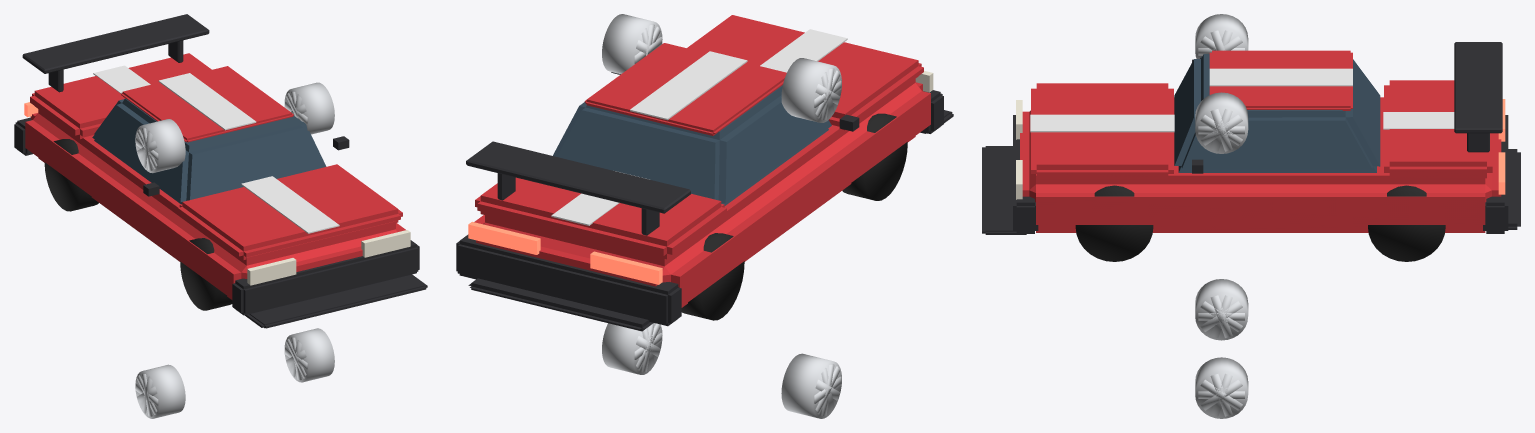
File: Car.fbx
3 views of the same model, side by side, from view 1: azimuth 30°, elevation 25°; view 2: azimuth 150°, elevation 25°; view 3: azimuth 270°, elevation 25° (orthographic). The views are drawn at different scales.
Parts seen in each view (by area): view 1: Body, Cabin, Hood, Bumper_Front, Stripe, Roof, Spoiler, Trunk, Rim_FL, Rim_FR, Rim_RL, Rim_RR (+5 smaller); view 2: Body, Cabin, Bumper_Rear, Trunk, Roof, Hood, Spoiler, Stripe, Rim_FL, Rim_RL, Taillights, Rim_RR (+4 smaller); view 3: Body, Cabin, Hood, Trunk, Stripe, Roof, Spoiler, Bumper_Front, Rim_FL, Rim_RR, Rim_FR, Wheel_FR (+5 smaller).
Part boxes in pixels (left/top/right/bottom): Body: left=25, top=109, right=405, bottom=299; Cabin: left=92, top=98, right=326, bottom=204; Hood: left=178, top=164, right=402, bottom=259; Bumper_Front: left=232, top=240, right=427, bottom=328; Stripe: left=93, top=65, right=339, bottom=233; Roof: left=121, top=66, right=293, bottom=142; Spoiler: left=22, top=14, right=209, bottom=92; Trunk: left=30, top=53, right=211, bottom=139; Rim_FL: left=135, top=364, right=185, bottom=418; Rim_FR: left=284, top=328, right=334, bottom=382; Rim_RL: left=135, top=119, right=185, bottom=173; Rim_RR: left=284, top=82, right=334, bottom=134; Body: left=474, top=79, right=930, bottom=307; Cabin: left=553, top=85, right=831, bottom=205; Bumper_Rear: left=456, top=234, right=681, bottom=331; Trunk: left=475, top=177, right=726, bottom=259; Roof: left=584, top=43, right=786, bottom=135; Hood: left=687, top=15, right=923, bottom=130; Spoiler: left=466, top=141, right=690, bottom=235; Stripe: left=551, top=29, right=847, bottom=225; Rim_FL: left=781, top=353, right=841, bottom=418; Rim_RL: left=781, top=58, right=841, bottom=122; Taillights: left=468, top=221, right=662, bottom=284; Rim_RR: left=602, top=14, right=662, bottom=74; Body: left=1020, top=97, right=1501, bottom=232; Cabin: left=1174, top=54, right=1380, bottom=172; Hood: left=1031, top=83, right=1173, bottom=179; Trunk: left=1384, top=80, right=1492, bottom=178; Stripe: left=1030, top=68, right=1454, bottom=132; Roof: left=1209, top=50, right=1352, bottom=110; Spoiler: left=1454, top=42, right=1502, bottom=152; Bumper_Front: left=982, top=115, right=1038, bottom=234; Rim_FL: left=1195, top=279, right=1248, bottom=340; Rim_RR: left=1195, top=92, right=1248, bottom=153; Rim_FR: left=1195, top=357, right=1248, bottom=418; Wheel_FR: left=1075, top=185, right=1153, bottom=261.
Bounding box in the file's own units: 2.18 × 3.01 × 4.7.
